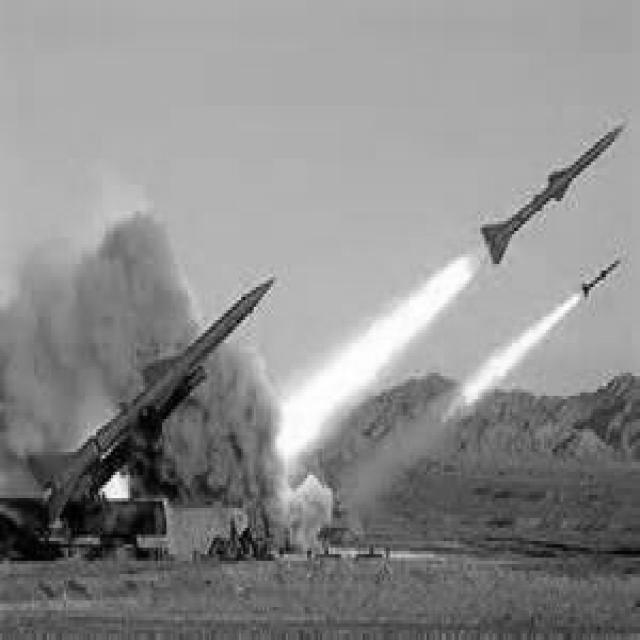missile: (26, 260, 282, 521), (460, 91, 633, 261), (580, 243, 623, 323)
